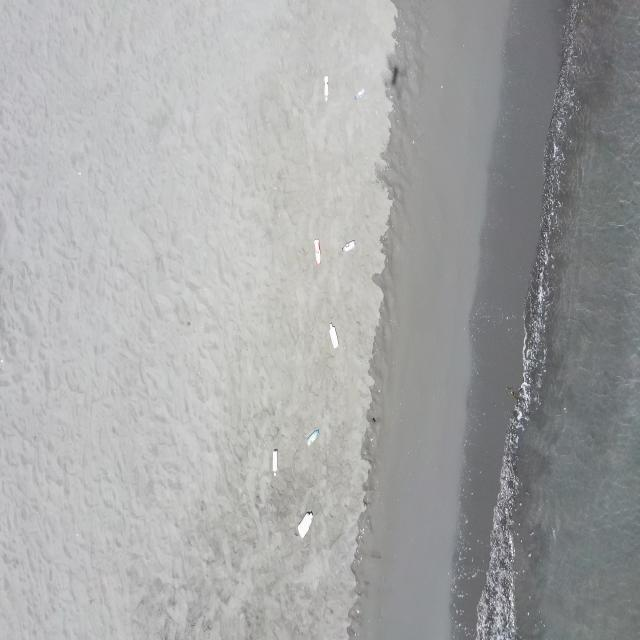Garbage: (296, 511, 312, 536), (306, 427, 319, 444), (328, 323, 336, 347), (313, 239, 320, 263), (342, 240, 355, 252), (353, 88, 364, 100), (272, 448, 276, 475), (324, 75, 327, 100)
